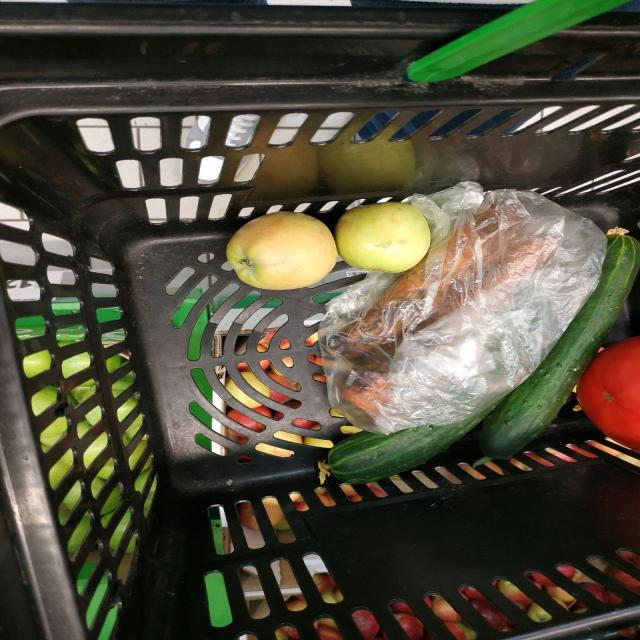Apple: (227, 211, 338, 290), (336, 202, 431, 272)
Cucumber: (480, 235, 640, 458), (329, 394, 510, 484)
Tomatoes: (578, 336, 640, 450)
